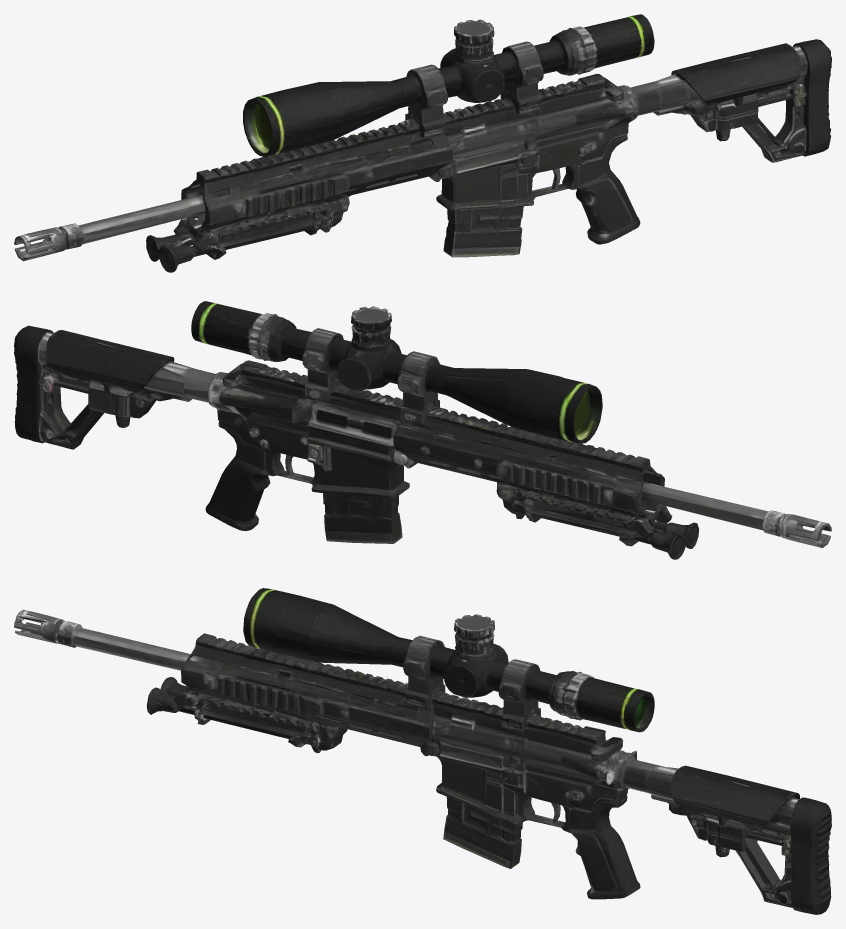
The model's file is gun_sniper.glb.
3 renders of one model, top to bottom at view 1: azimuth 30°, elevation 25°; view 2: azimuth 150°, elevation 25°; view 3: azimuth 330°, elevation 25°, orthographic.
Parts seen in each view (by area): view 1: Mesh_0; view 2: Mesh_0; view 3: Mesh_0.
Part boxes in pixels (x1,y1,x2,y2): Mesh_0: (14, 14, 831, 272); Mesh_0: (14, 301, 831, 559); Mesh_0: (14, 588, 831, 914).
Bounding box in the file's own units: 1.9 × 0.545 × 0.1489.
1 material, 1 textured.
